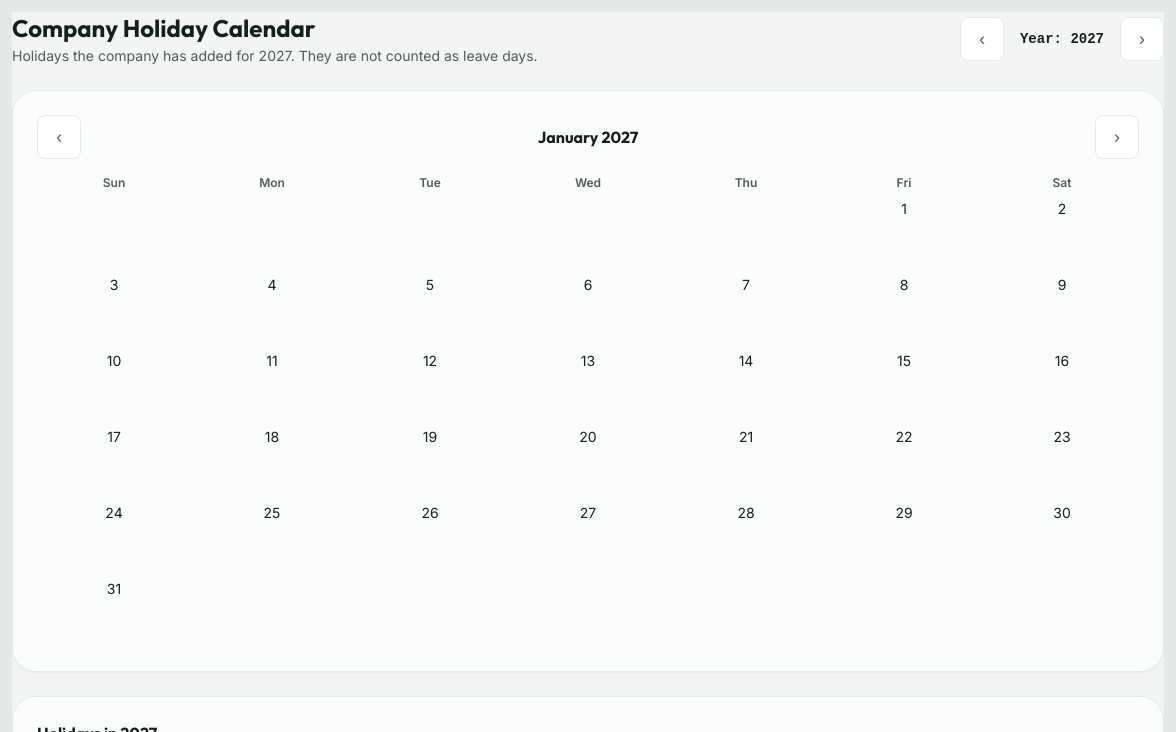
HolidayCalendar shows only the holidays the company added › marks the added day in the month grid and lists it
The year is not the current one, so the grid opens on January: go to March.
Click the button named "Next month": (1117, 137) x1=1095 y1=115 x2=1139 y2=159
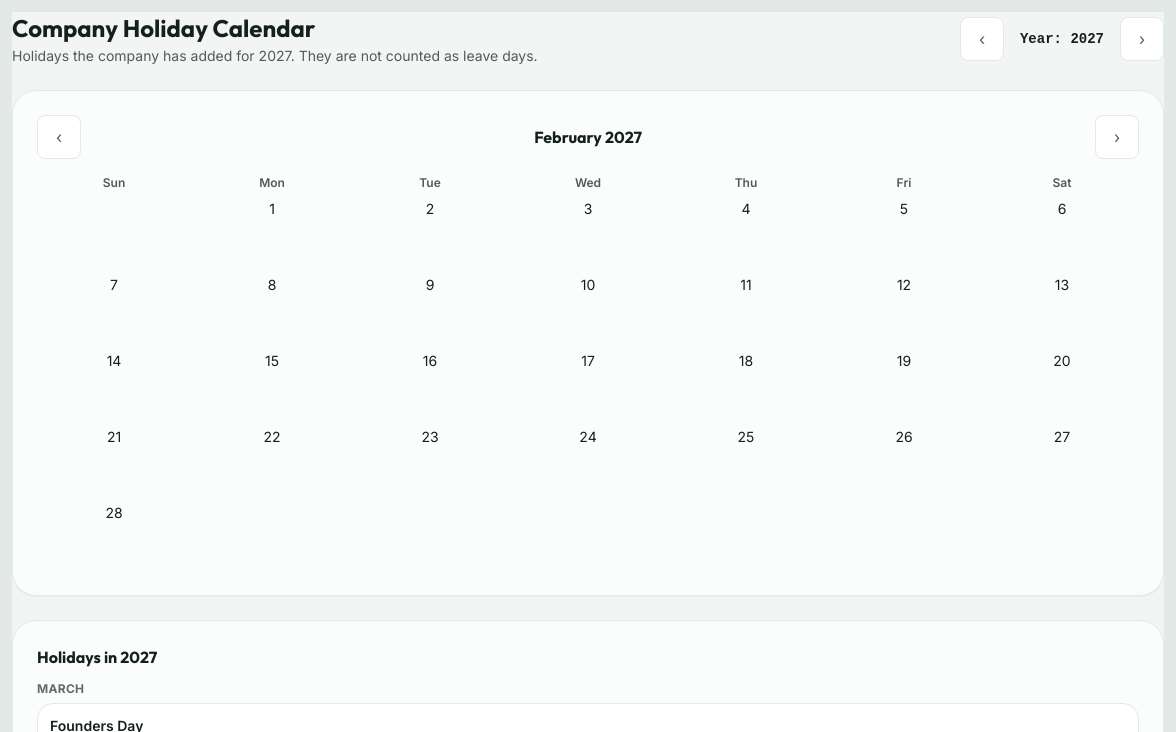
Click the button named "Next month": (1117, 137) x1=1095 y1=115 x2=1139 y2=159
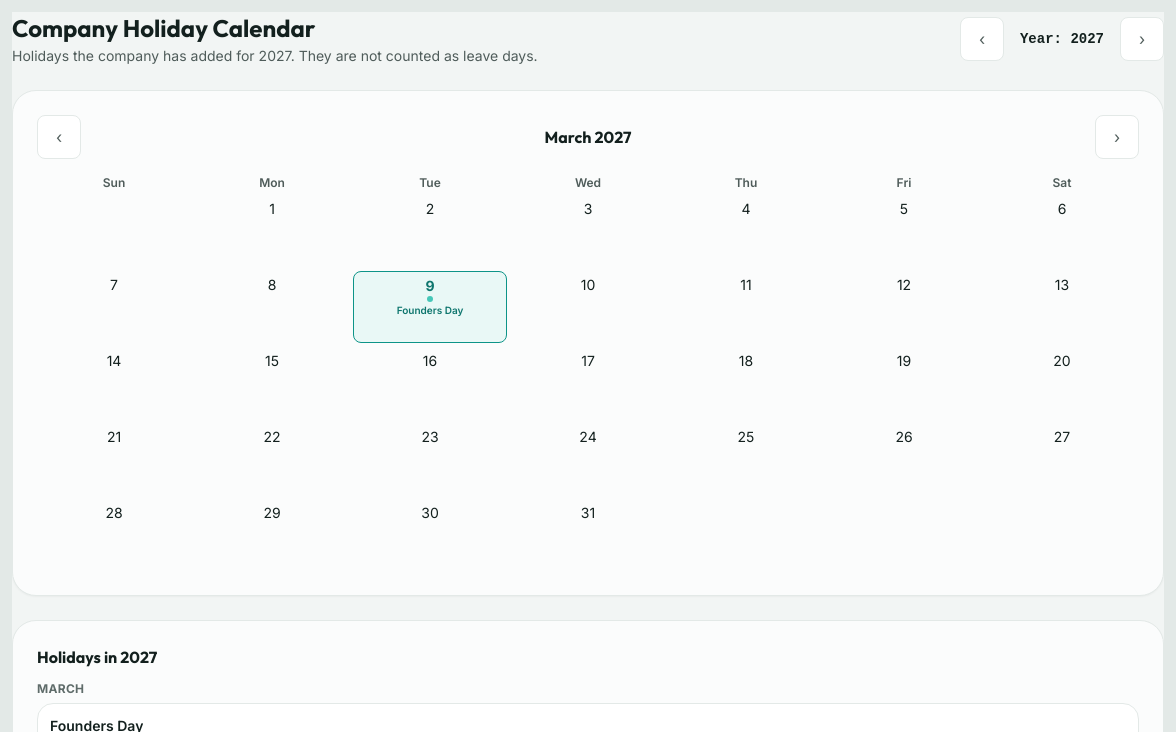
Check: the heading "March 2027" is shown, box x1=544 y1=125 x2=631 y2=149
Check: the text "Founders Day" is shown 2 times, box x1=397 y1=304 x2=463 y2=316; x1=50 y1=716 x2=143 y2=731
